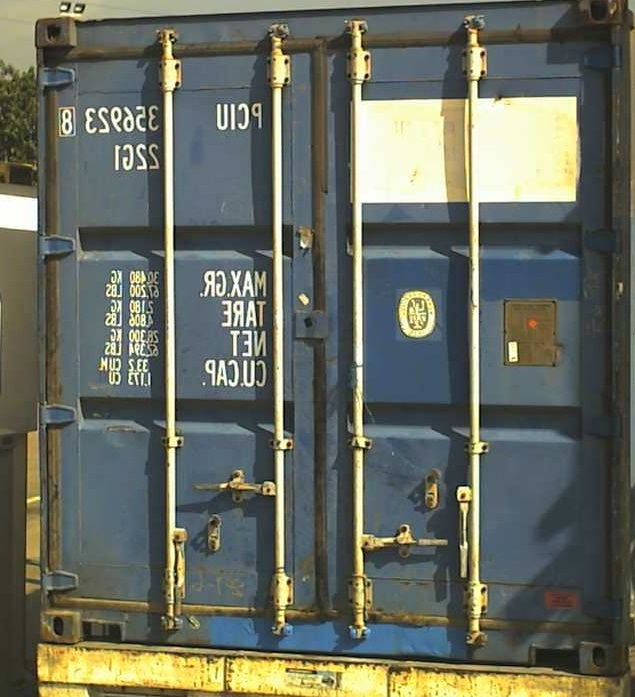container_door: (39, 1, 622, 652)
